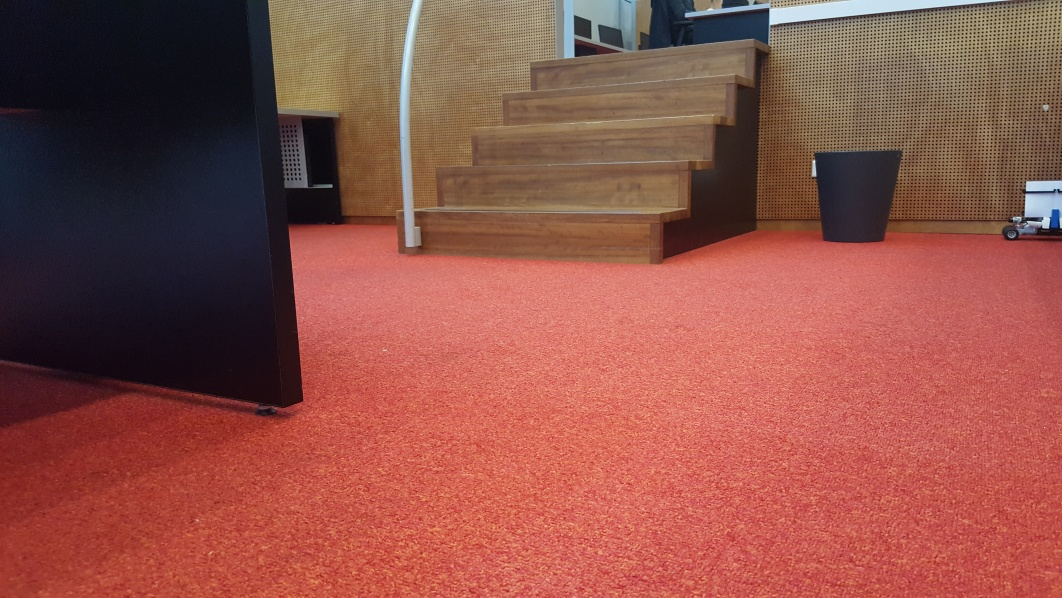car: (1005, 178, 1062, 240)
